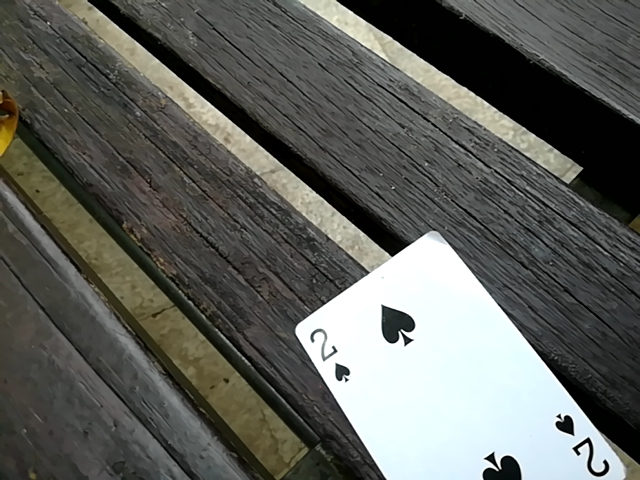ht 2: (289, 231, 628, 480)
